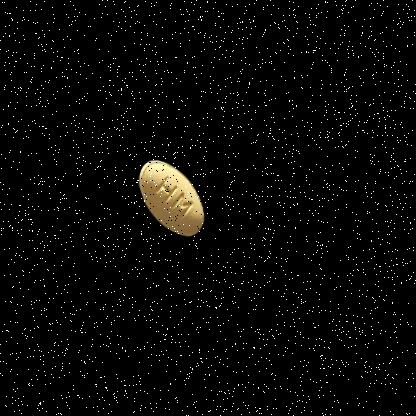tovast10: (112, 140, 231, 266)
